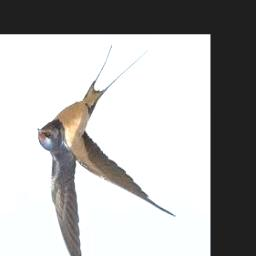Swallow: (37, 45, 178, 256)
